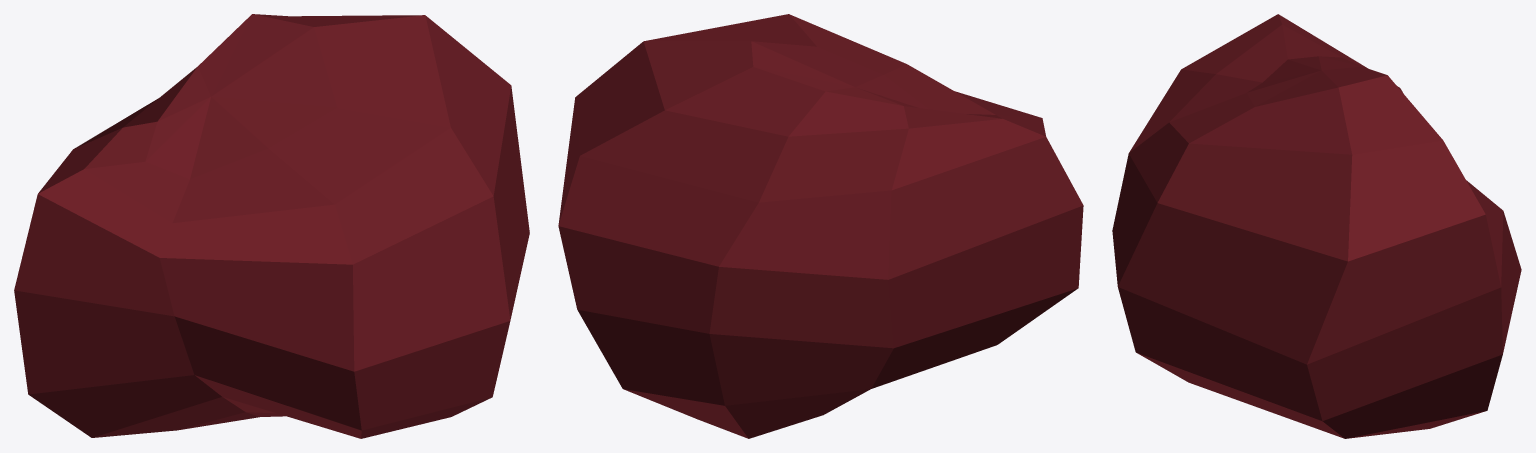
File: gib02.glb
The picture shows the model from 3 angles, left to right: view 1: azimuth 30°, elevation 25°; view 2: azimuth 150°, elevation 25°; view 3: azimuth 270°, elevation 25°; orthographic projection. The views are drawn at different scales.
Parts seen in each view (by area): view 1: gib02; view 2: gib02; view 3: gib02.
Part boxes in pixels (x1,y1,x2,y2): gib02: [14, 14, 529, 438]; gib02: [558, 14, 1083, 438]; gib02: [1112, 14, 1521, 438].
Size of the model in its own units: 1.98 by 1.41 by 1.55.
